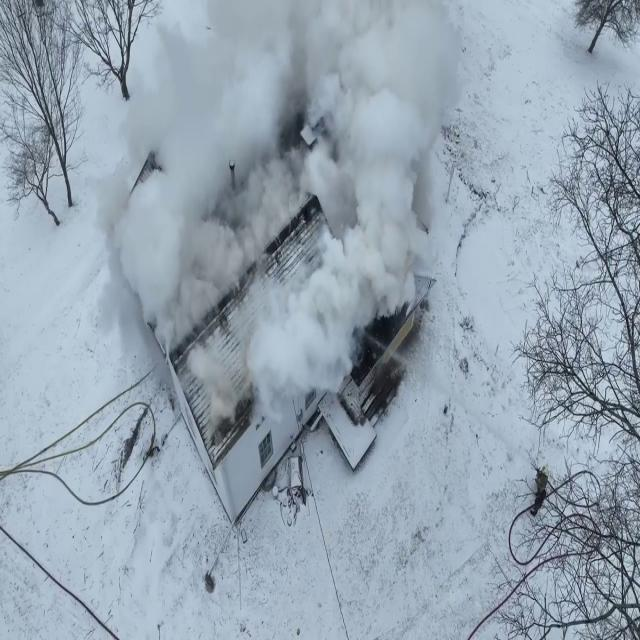Smoke: (19, 0, 476, 443)
